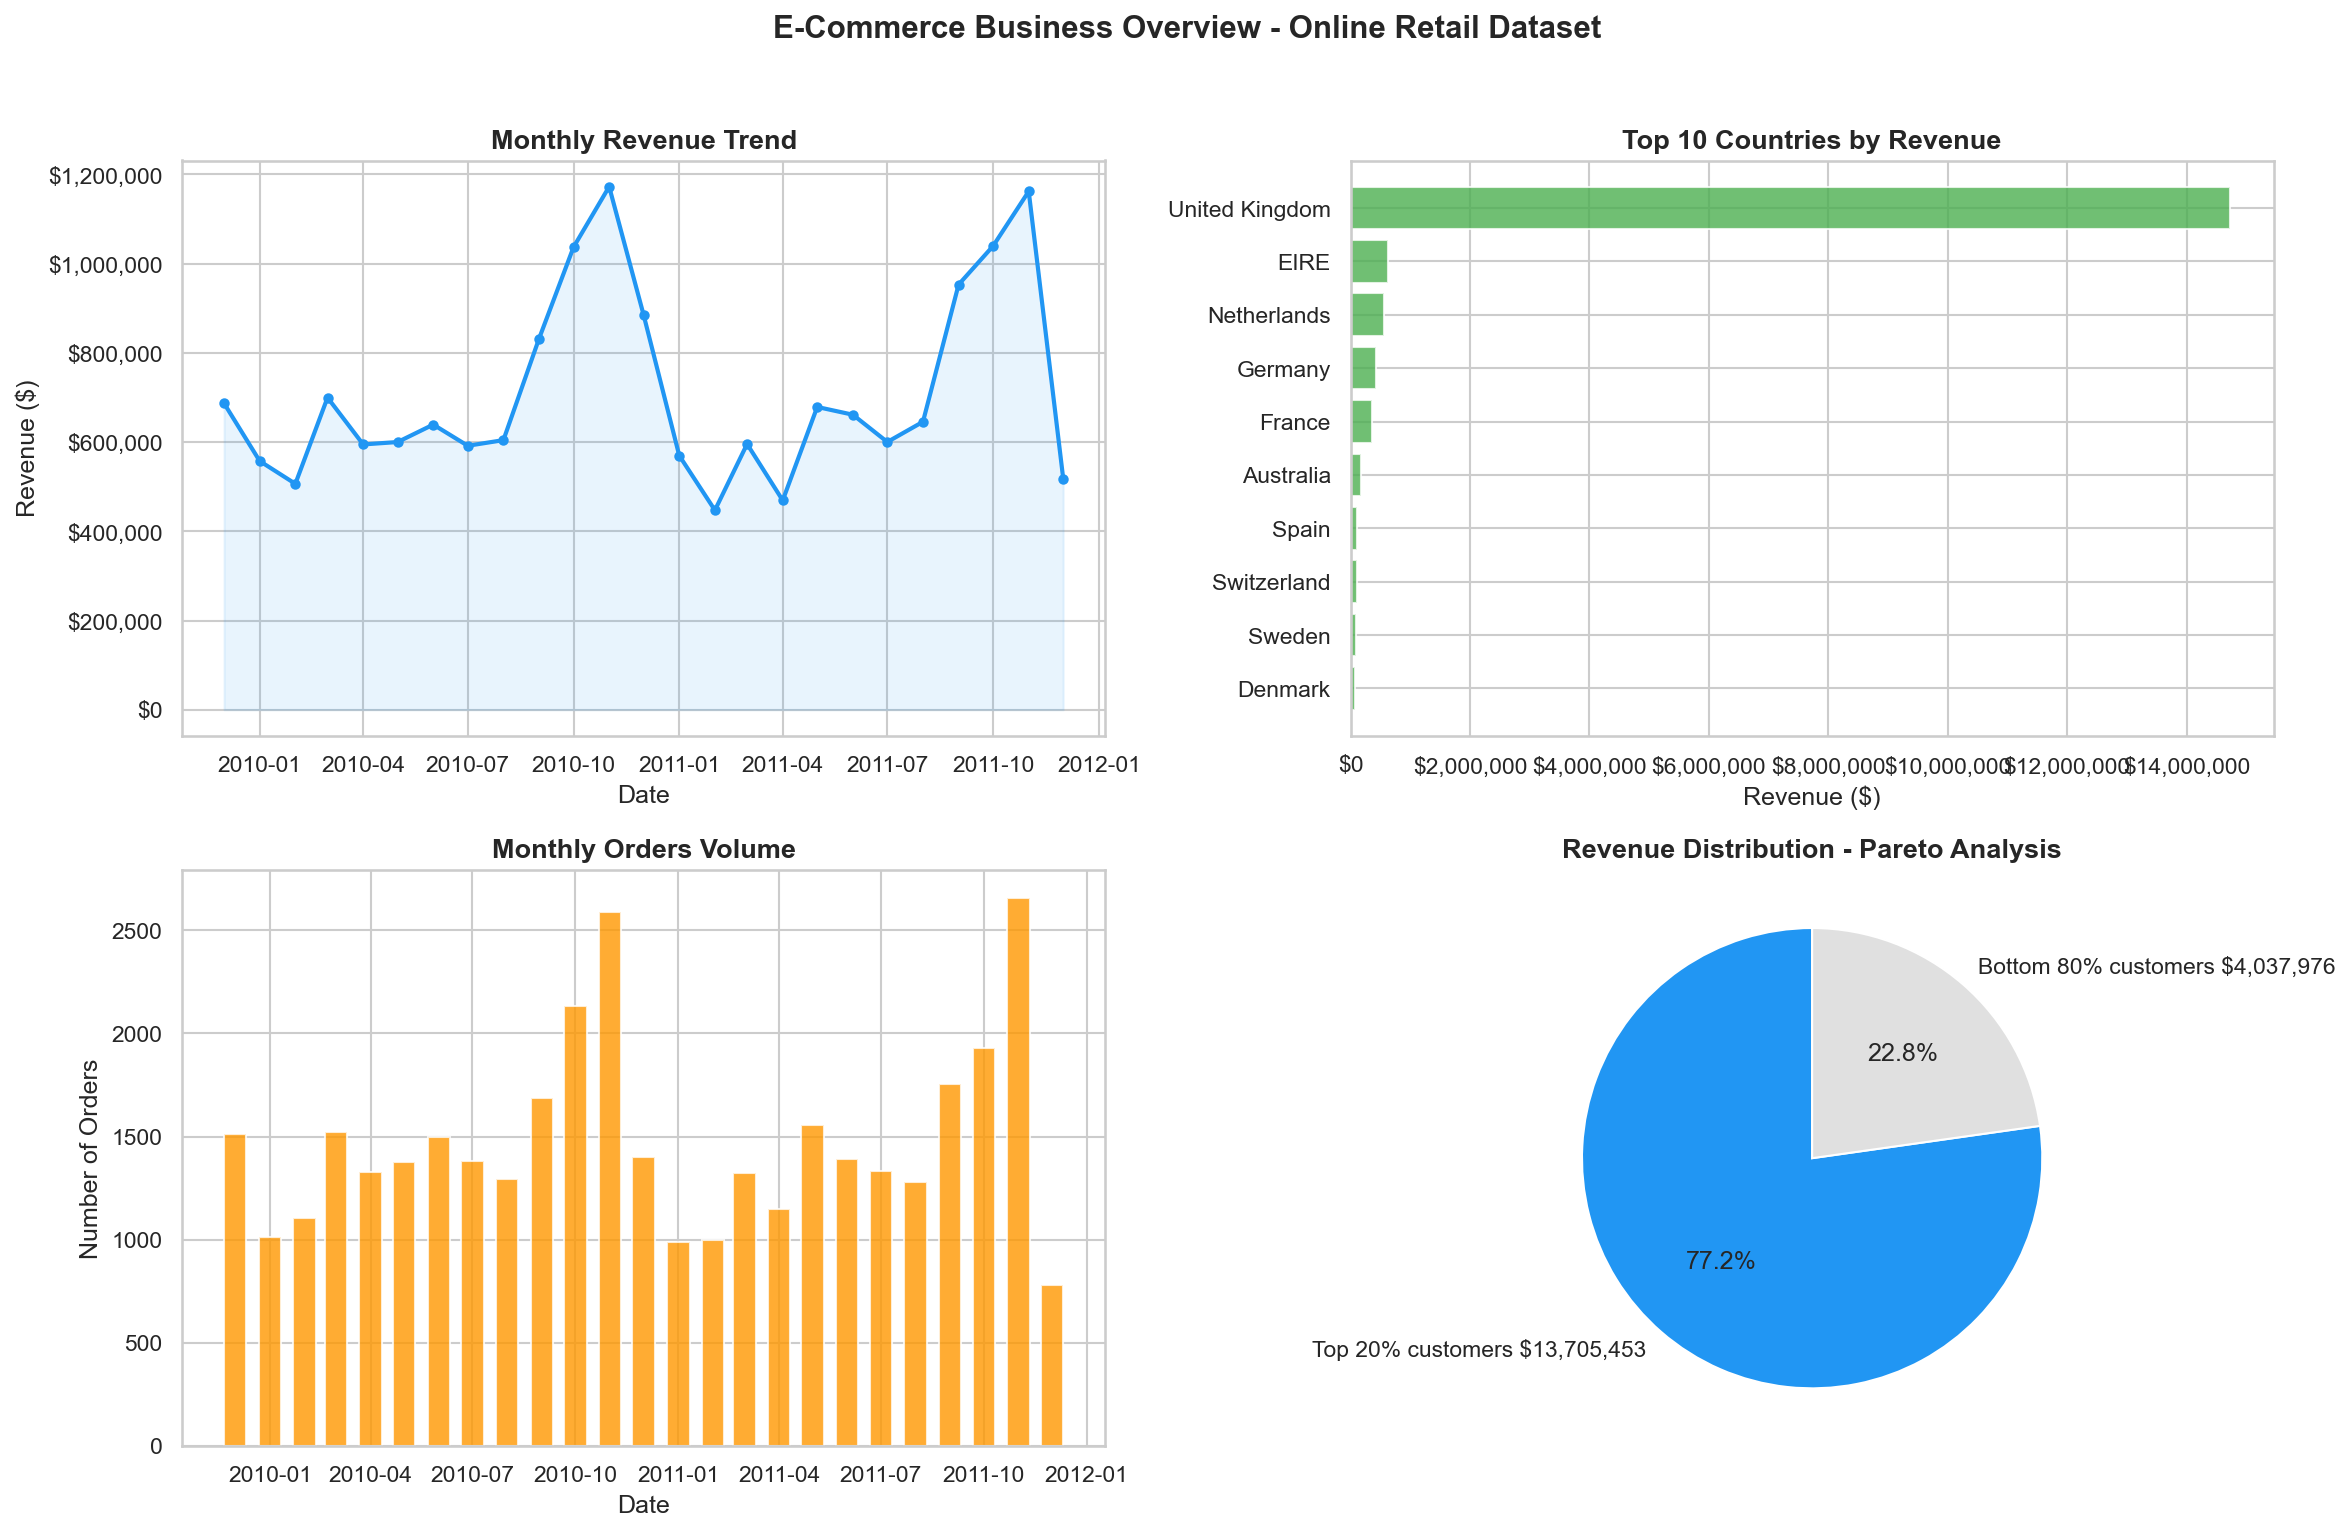

What the dashboard file says about the page in this screenshot:
{"tool":"powerbi","page":{"name":"Executive Overview","canvas":[1280,720],"ordinal":0},"visuals":[{"type":"card","title":"Total Revenue","fields":{"Values":["transactions.Revenue Display"]},"box":[20.9,75.5,230,120],"z":0},{"type":"card","title":"Customers","fields":{"Values":["transactions.Total Clientes"]},"box":[273.6,75,230,120],"z":1000},{"type":"card","title":"Total Orders","fields":{"Values":["transactions.Total Ordenes"]},"box":[526.4,75,230,120],"z":3000},{"type":"card","title":"AVG Order Value","fields":{"Values":["transactions.AOV"]},"box":[779.1,75,230,120],"z":4000},{"type":"card","title":"AVG CLV (12M)","fields":{"Values":["transactions.Avg CLV"]},"box":[1031.5,77.1,230,117.9],"z":5000,"group":"g1"},{"type":"textbox","title":"Customer Analytics — Executive Overview","box":[0,0,1280,60],"z":6000},{"type":"lineChart","title":"Monthly Revenue Trend","fields":{"Y":["transactions.Revenue Total"],"Category":["transactions.invoice_date.Variación.Jerarquía de fechas.Año","transactions.invoice_date.Variación.Jerarquía de fechas.Mes"]},"box":[20,214,759,222],"z":7000},{"type":"barChart","title":"Revenue by Country — Top 5","fields":{"Category":["transactions.country"],"Y":["transactions.Revenue Total"]},"box":[803,214,459,222],"z":8000},{"type":"donutChart","title":"Revenue Distribution by Segment","fields":{"Y":["transactions.Revenue Total"],"Category":["rfm_segments.segment"]},"box":[21,460,590,241],"z":9000},{"type":"clusteredColumnChart","title":"Monthly Orders Volume","fields":{"Y":["transactions.Total Ordenes"],"Category":["transactions.invoice_date.Variación.Jerarquía de fechas.Año","transactions.invoice_date.Variación.Jerarquía de fechas.Mes"]},"box":[632,460,630,241],"z":10000},{"type":"slicer","fields":{"Values":["transactions.invoice_date"]},"box":[1039,10,223,40],"z":11000},{"type":"shape","box":[1007.6,77.1,57.1,118.2],"z":11500,"group":"g1"},{"type":"group","id":"g1","title":"Grupo 1","box":[1007.6,77.1,254.1,118.2],"z":11501}]}

Visuals, with their boxes on the page's 1280x720 design canvas (x1, y1, x2, y2). These are canvas units, not pixel positions in the 2350x1532 screenshot, which may show the page scaled, cropped or inside an application window:
"Total Revenue" card: BBox(21, 76, 251, 196)
"Customers" card: BBox(274, 75, 504, 195)
"Total Orders" card: BBox(526, 75, 756, 195)
"AVG Order Value" card: BBox(779, 75, 1009, 195)
"AVG CLV (12M)" card: BBox(1032, 77, 1262, 195)
"Customer Analytics — Executive Overview" textbox: BBox(0, 0, 1280, 60)
"Monthly Revenue Trend" lineChart: BBox(20, 214, 779, 436)
"Revenue by Country — Top 5" barChart: BBox(803, 214, 1262, 436)
"Revenue Distribution by Segment" donutChart: BBox(21, 460, 611, 701)
"Monthly Orders Volume" clusteredColumnChart: BBox(632, 460, 1262, 701)
slicer - transactions.invoice_date: BBox(1039, 10, 1262, 50)
shape: BBox(1008, 77, 1065, 195)
"Grupo 1" group: BBox(1008, 77, 1262, 195)
